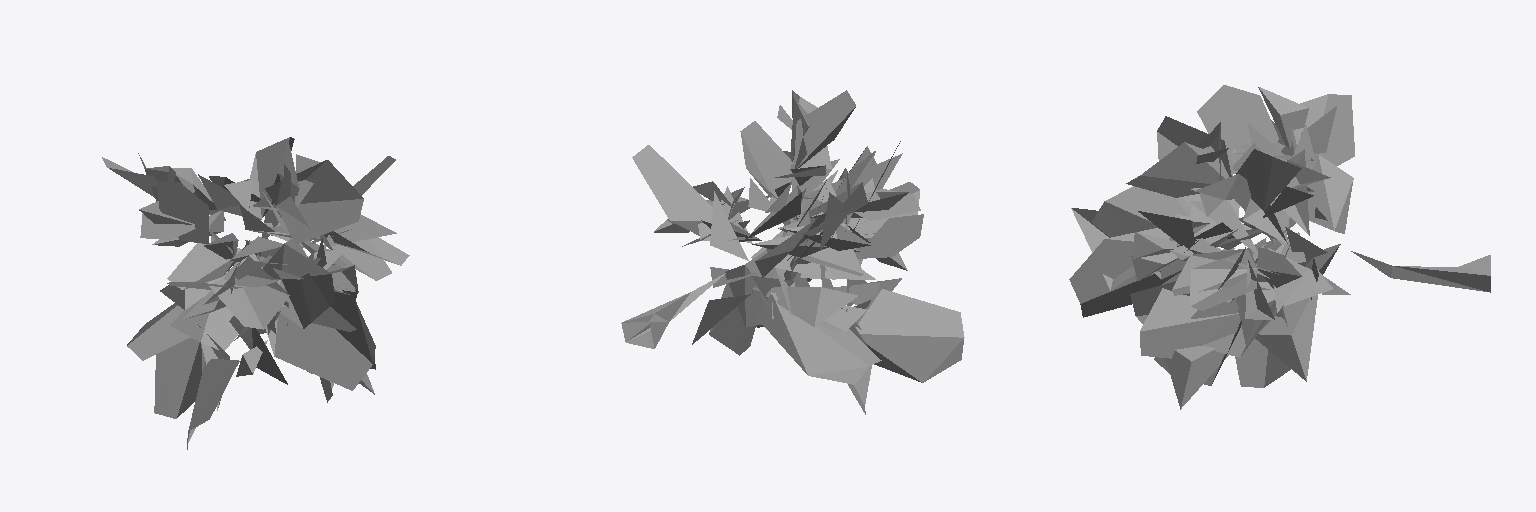
The model's file is forestTree.obj.
3 views of the same model, side by side, from view 1: azimuth 30°, elevation 25°; view 2: azimuth 150°, elevation 25°; view 3: azimuth 270°, elevation 25° (orthographic).
Visible parts, largest first — view 1: forestTree; view 2: forestTree; view 3: forestTree.
Boxes of the visible parts, <box> form: forestTree: <box>102,137,409,449</box>; forestTree: <box>621,90,964,414</box>; forestTree: <box>1069,85,1490,409</box>.
Size of the model in its own units: 8.53 by 8.21 by 11.59.